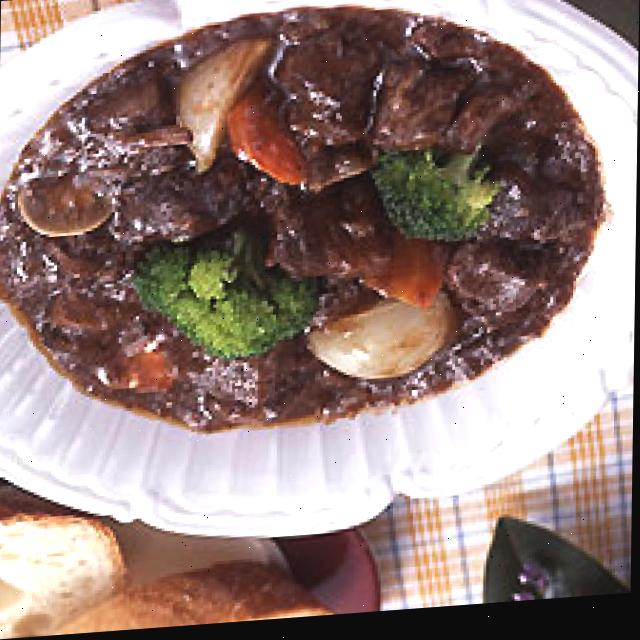汤锅炖物: (0, 0, 640, 488)
